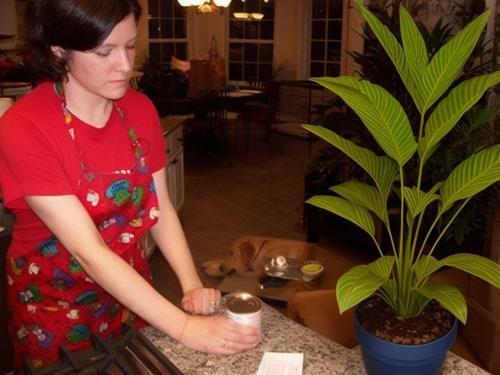chair: (193, 89, 235, 173)
dog: (203, 239, 366, 337)
person: (1, 3, 261, 375)
person/hand: (182, 315, 262, 356), (182, 289, 221, 315)
person/head: (47, 1, 138, 101)
pottedplant: (302, 4, 500, 375)
